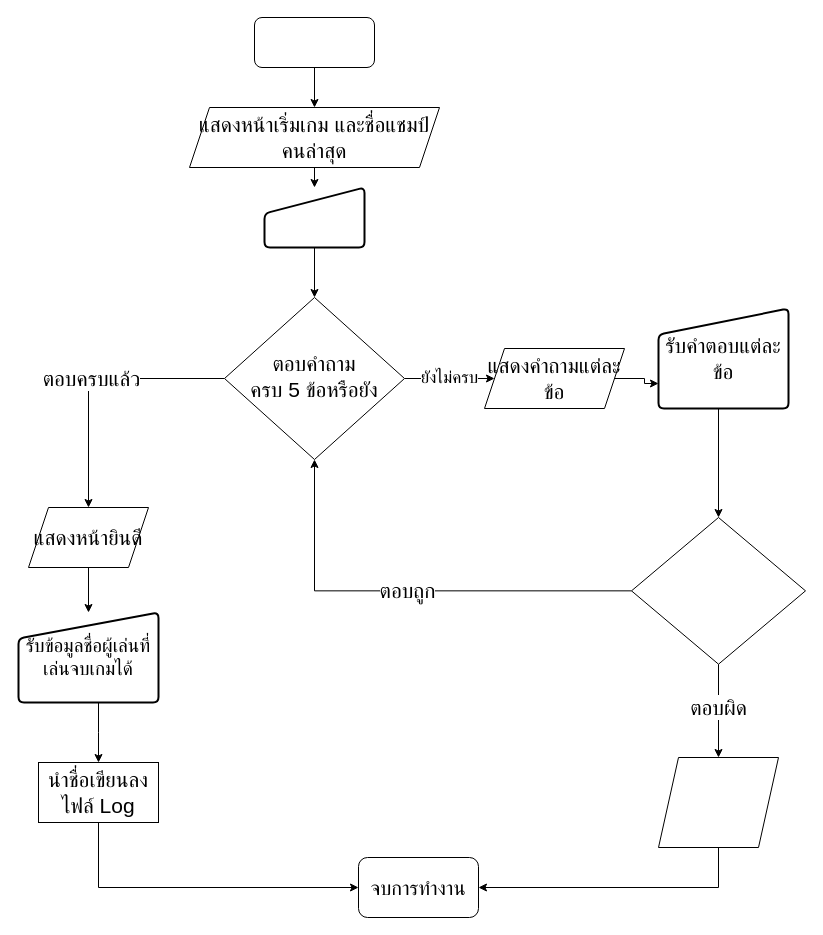
The diagram is 823 pixels wide and 935 high, and some of its shapes have lost their labels. Here are the shapes that lost their labels. From the top down, the centre of each, then its label:
point (314, 42): เริ่มต้นการทำงาน
point (314, 217): กดเริ่มเกม
point (718, 590): เช็คคำตอบแต่ละข้อ ว่าตอบถูกหรือไม่
point (718, 802): แสดงหน้าแสดงความเสียใจ
